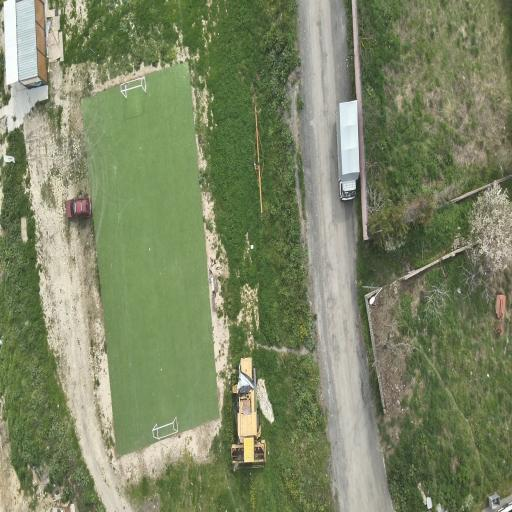car: (336, 101, 359, 200), (66, 198, 91, 219)
harvester: (232, 358, 265, 469), (496, 295, 506, 333)
